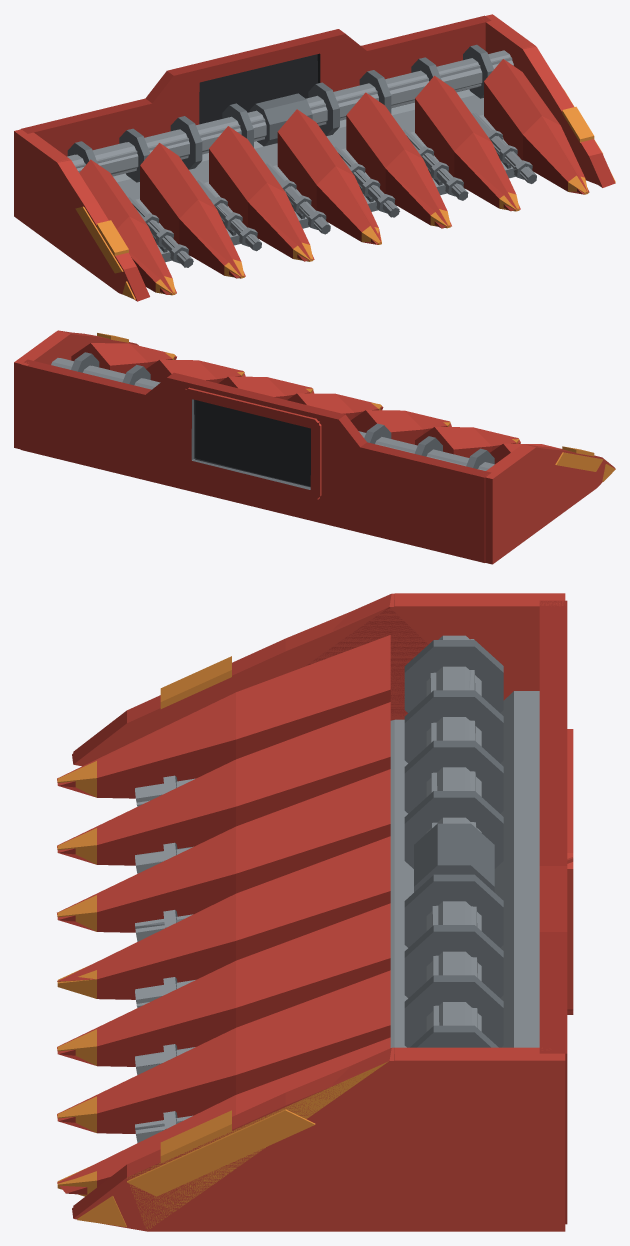
The model's file is FMS_Mach_Header_Corn.fbx.
3 views of the same model, one above another, from view 1: azimuth 30°, elevation 25°; view 2: azimuth 150°, elevation 25°; view 3: azimuth 270°, elevation 25° (orthographic). The views are drawn at different scales.
Visible parts, largest first — view 1: Frame, Frame_Low1; view 2: Frame, Frame_Low1; view 3: Frame, Frame_Low1.
Boxes of the visible parts, <box> form: Frame: <box>14,14,615,299</box>; Frame_Low1: <box>14,16,614,301</box>; Frame: <box>14,331,615,564</box>; Frame_Low1: <box>14,330,614,563</box>; Frame: <box>57,593,573,1231</box>; Frame_Low1: <box>57,593,573,1231</box>.
Size of the model in its own units: 5.6 by 1.2 by 2.6.
